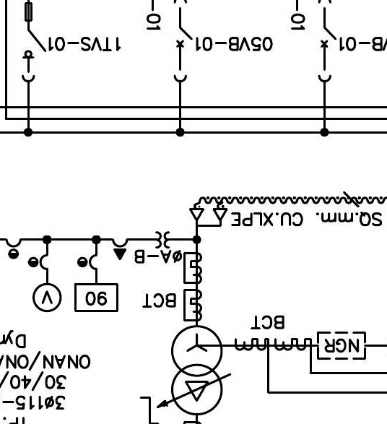11522_tx_dyn1: (170, 325, 223, 416)
terminator_double: (189, 208, 228, 227)
v_m: (32, 282, 63, 313)
